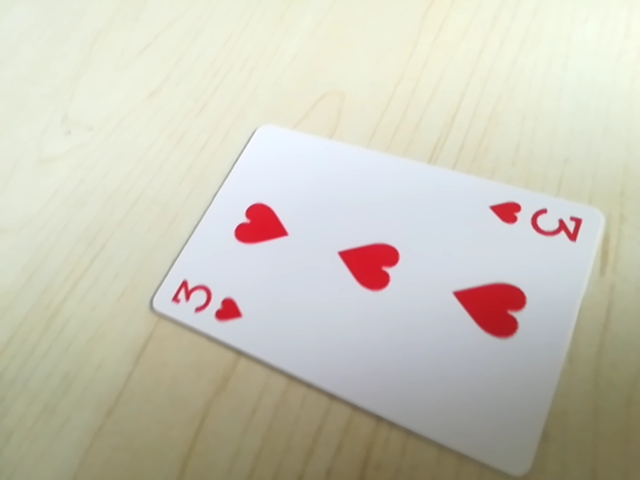hx 3: (484, 197, 590, 247), (166, 274, 247, 328)
